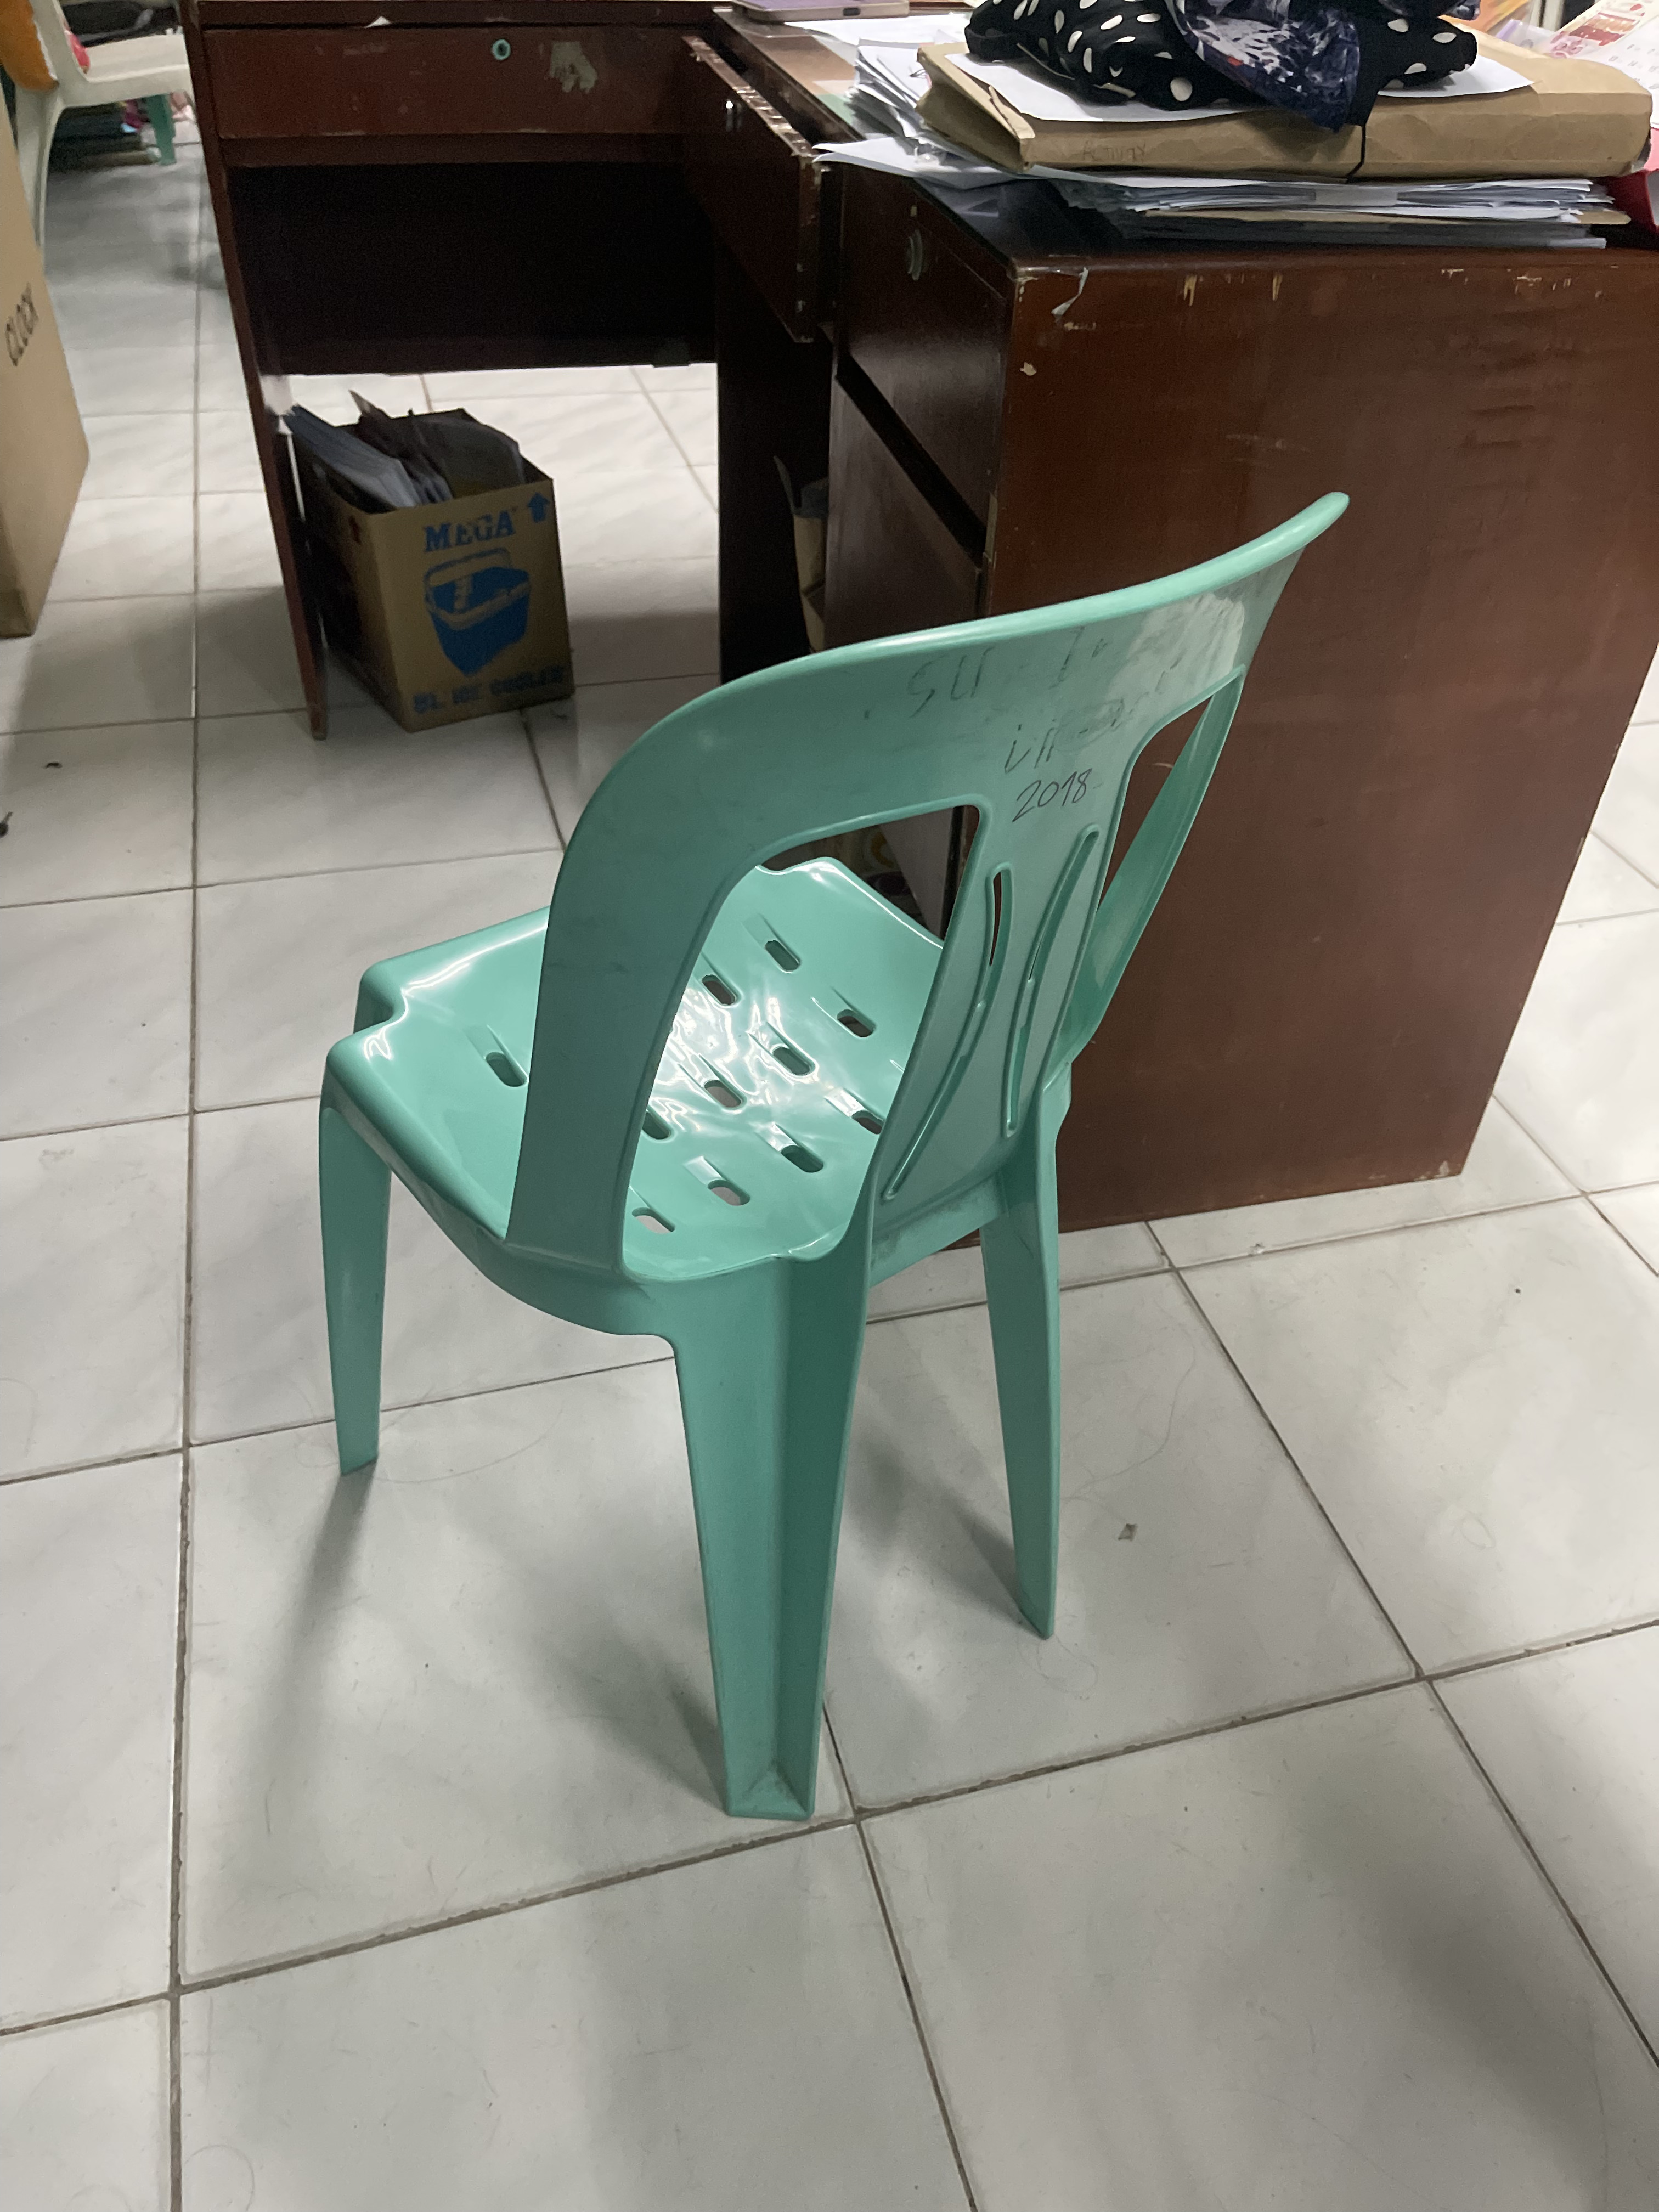chair2: (301, 482, 1373, 1834)
